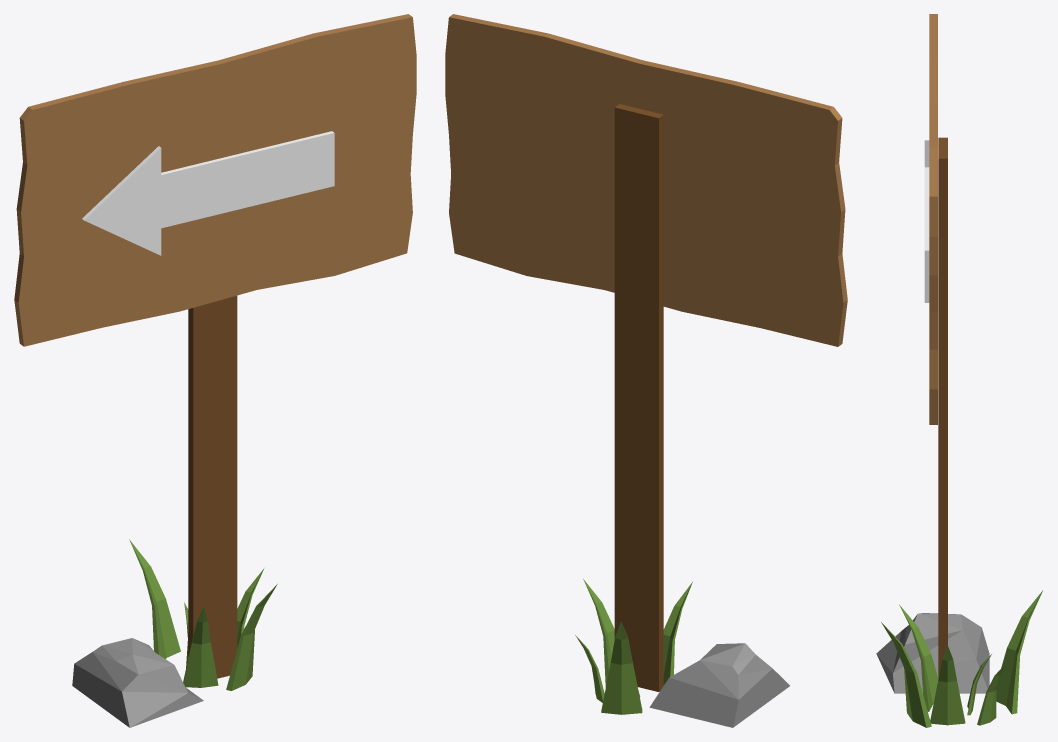
File: signleft.fbx
3 views of the same model, side by side, from view 1: azimuth 30°, elevation 25°; view 2: azimuth 150°, elevation 25°; view 3: azimuth 270°, elevation 25° (orthographic).
Parts seen in each view (by area): view 1: Sign11, arrow; view 2: Sign11; view 3: Sign11, arrow.
Boxes of the visible parts, x1,y1,x2,y2 form: Sign11: [14, 14, 416, 727]; arrow: [82, 131, 334, 255]; Sign11: [445, 14, 847, 727]; Sign11: [876, 14, 1042, 727]; arrow: [924, 140, 929, 302].
Size of the model in its own units: 144 by 215 by 53.24.
